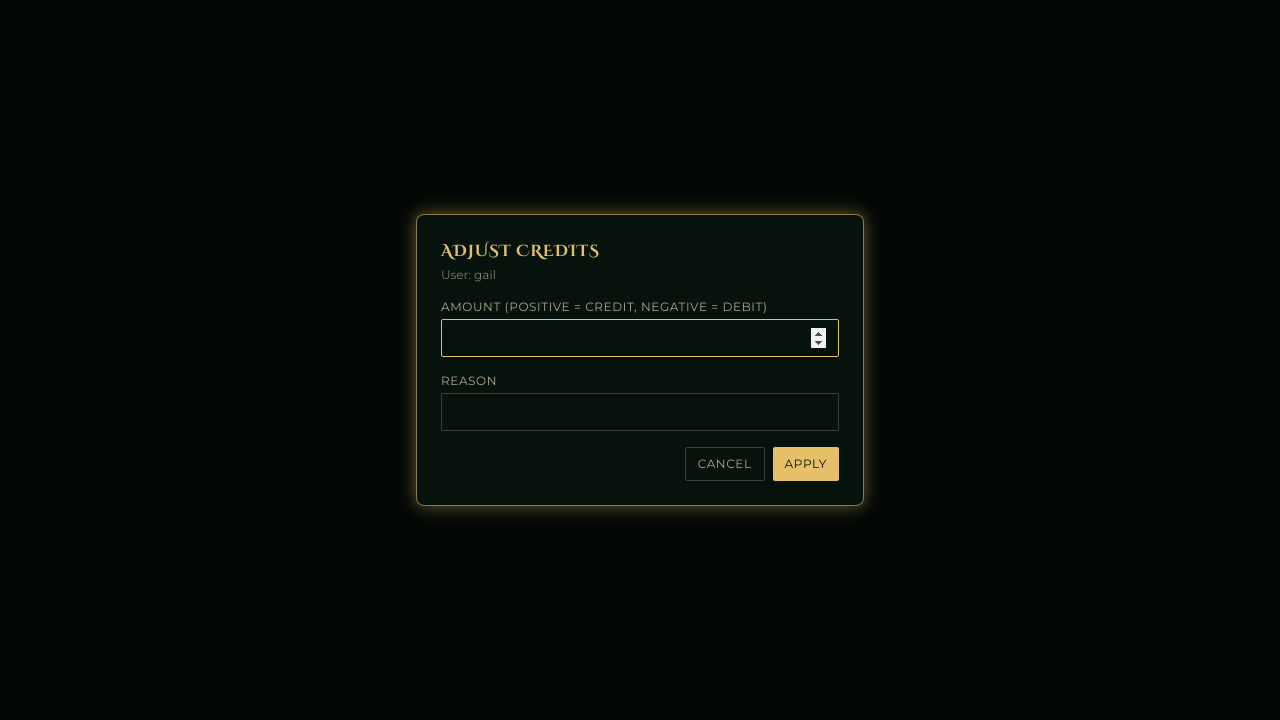
Test: AdjustCreditsModal › shows an error for invalid reason (< 3 chars)
This screenshot has width=1280, height=720.
Type "100" into the number field labelled "Amount (positive = credit, negative = debit)" at (640, 338), box [441,319,839,357]
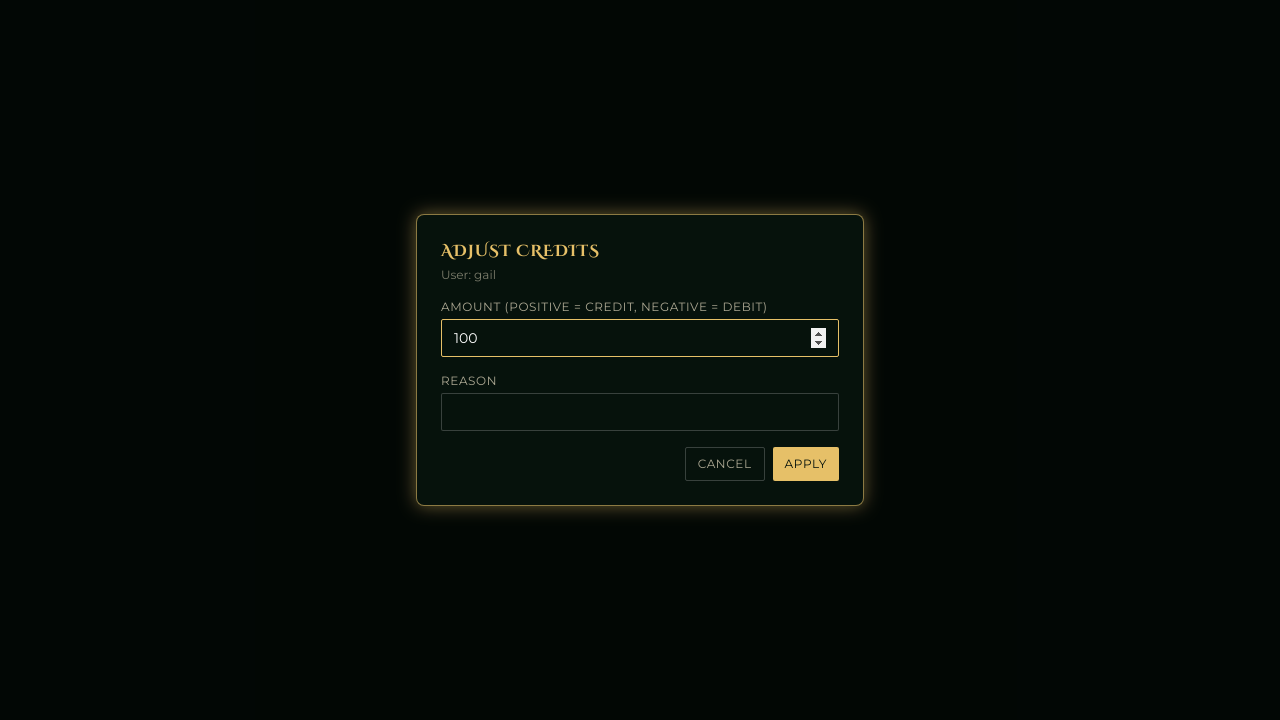
Type "no" into the field labelled "Reason" at (640, 412), box [441,393,839,431]
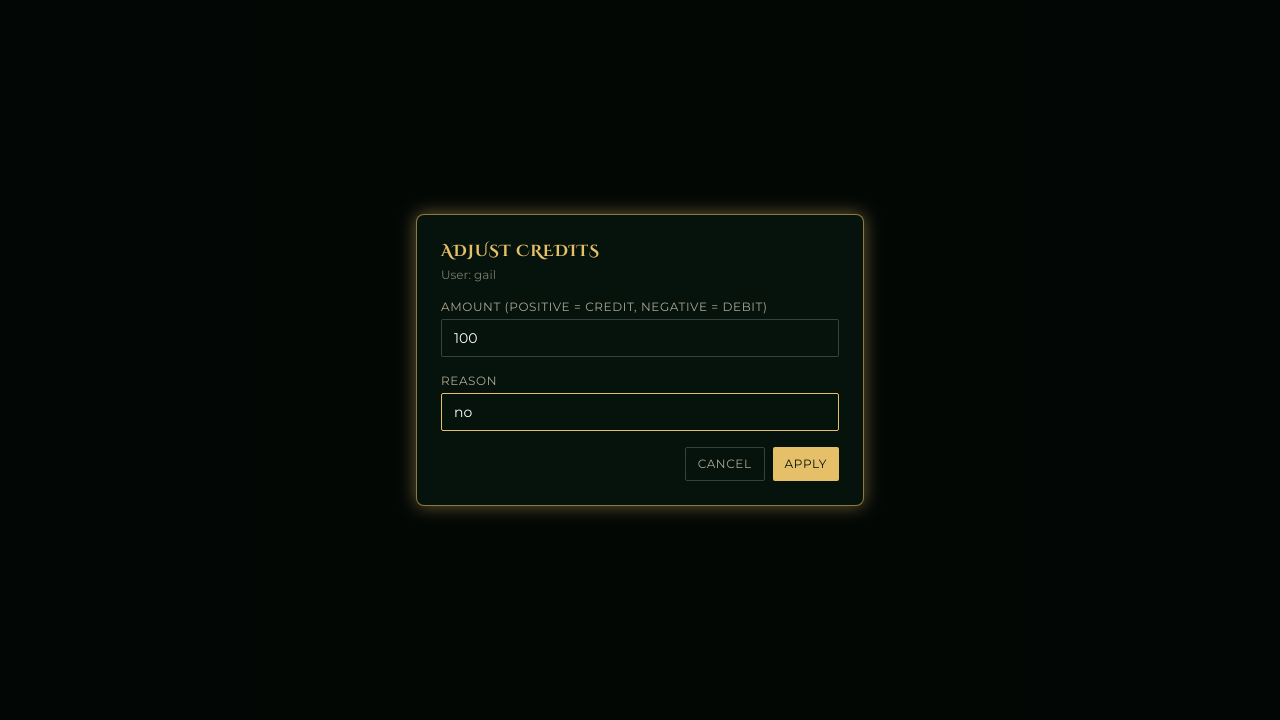
Click the button "Apply" at (806, 464), box [773,447,839,481]
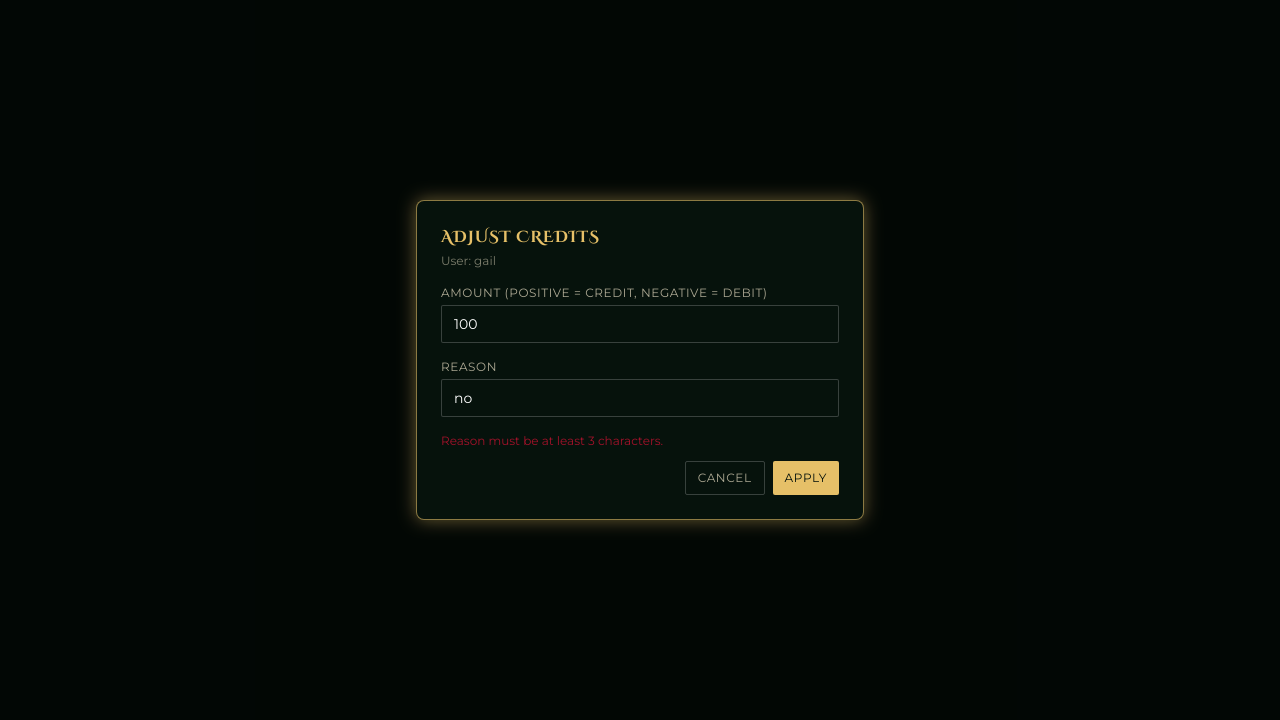
expect the text "Reason must be at least 3 characters." is shown: met, box [441,433,663,448]
